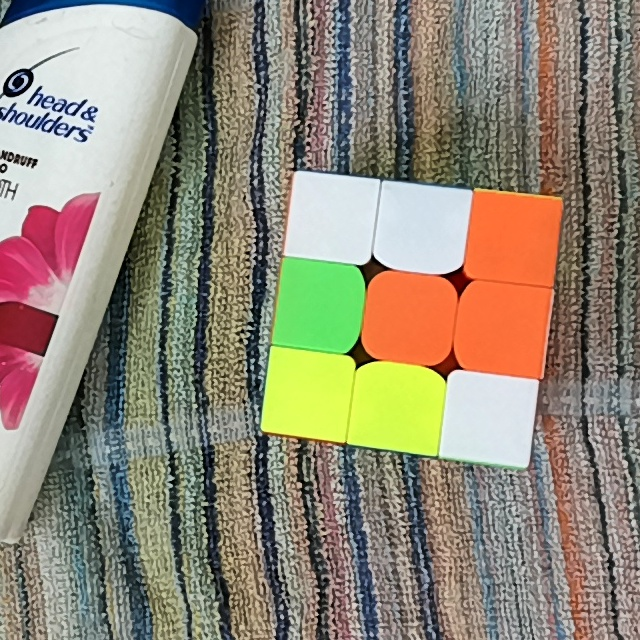tile: (465, 293, 540, 366), (452, 382, 526, 455), (294, 179, 366, 253), (383, 194, 460, 263), (478, 201, 550, 274), (374, 285, 445, 356), (361, 371, 432, 442), (283, 271, 355, 341), (271, 359, 343, 427)
